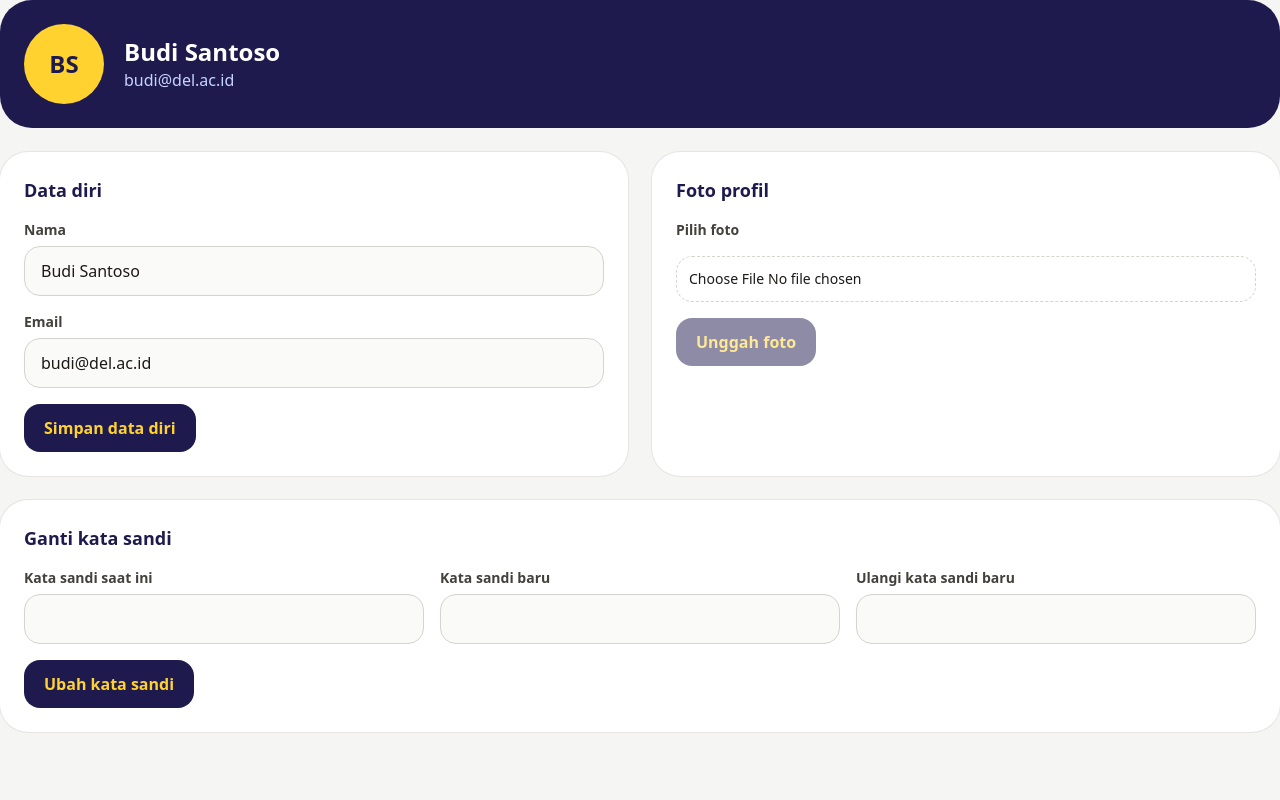
ProfilePage › validasi ganti kata sandi
This screenshot has width=1280, height=800.
In the password field labelled "Kata sandi baru": (640, 619) [440,594,840,644], type "123"
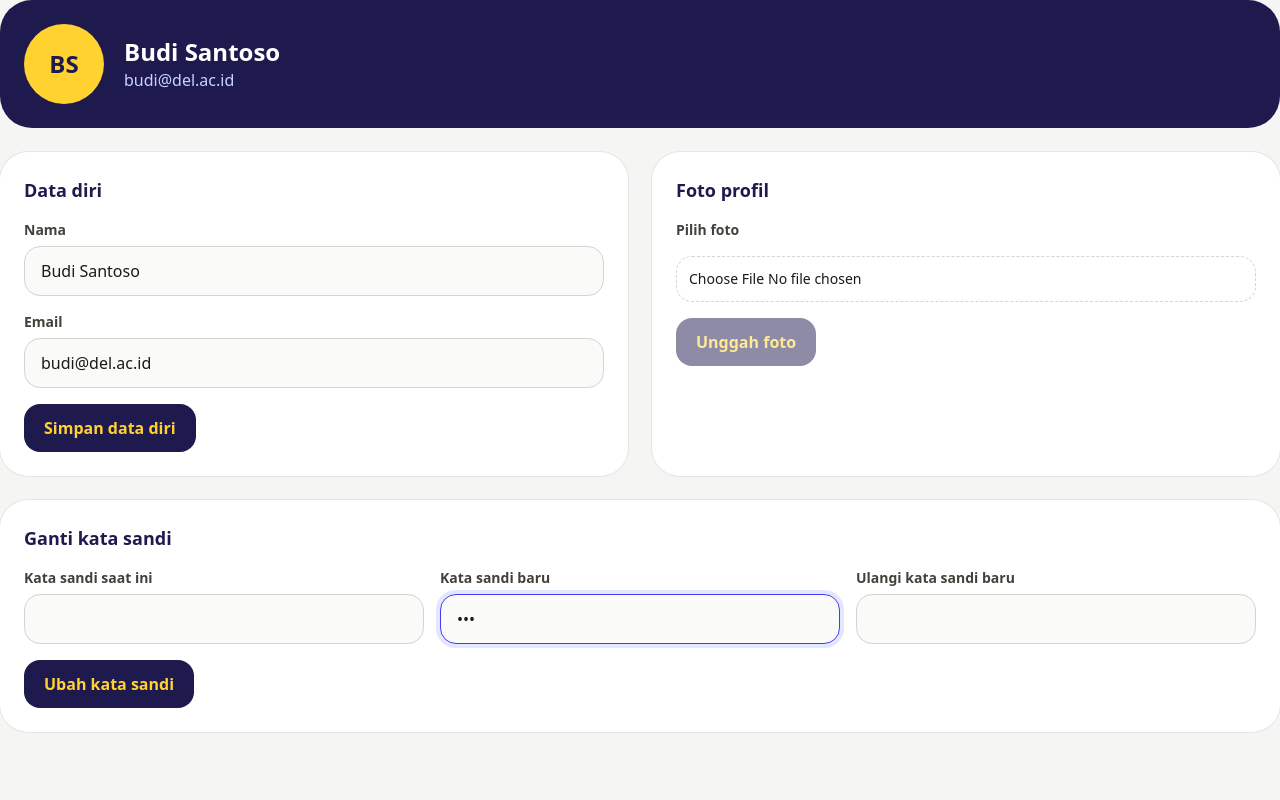
In the password field labelled "Ulangi kata sandi baru": (1056, 619) [856,594,1256,644], type "321"
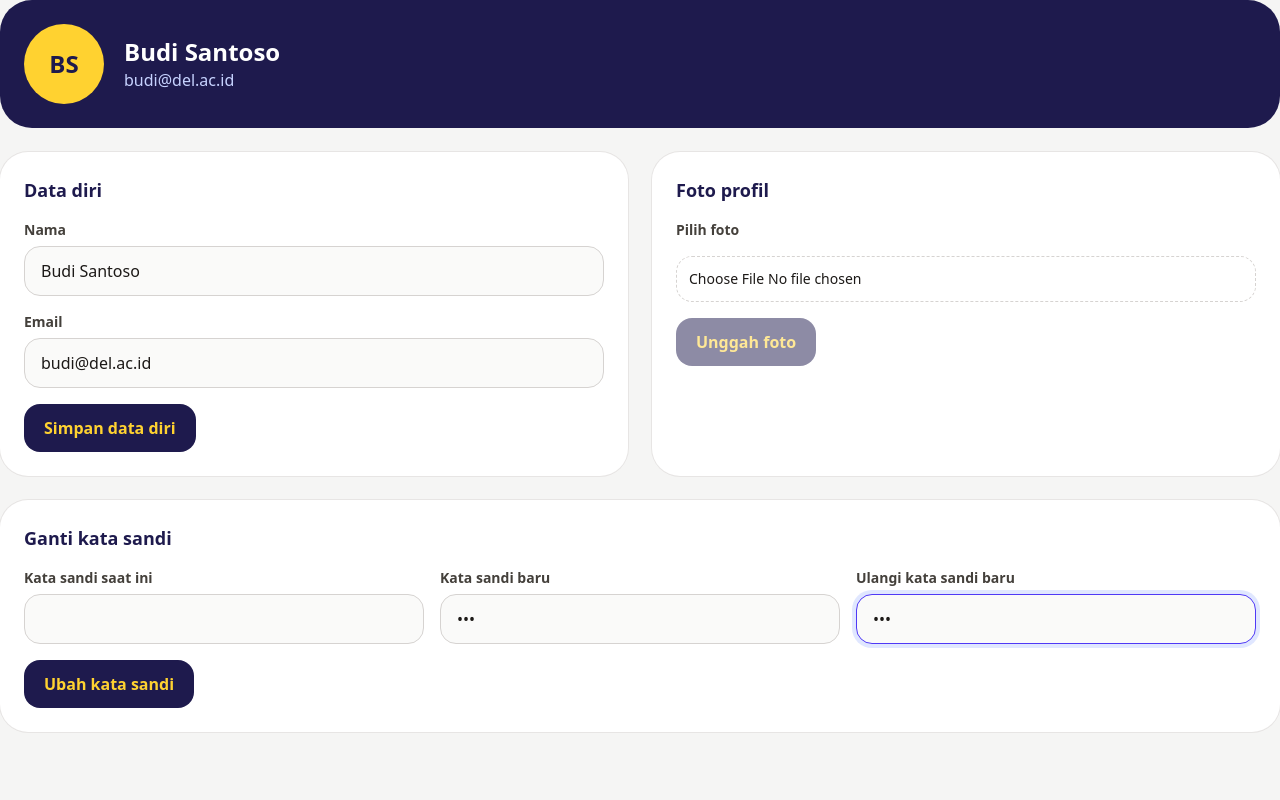
Click the button "Ubah kata sandi": (109, 684) [24,660,194,708]
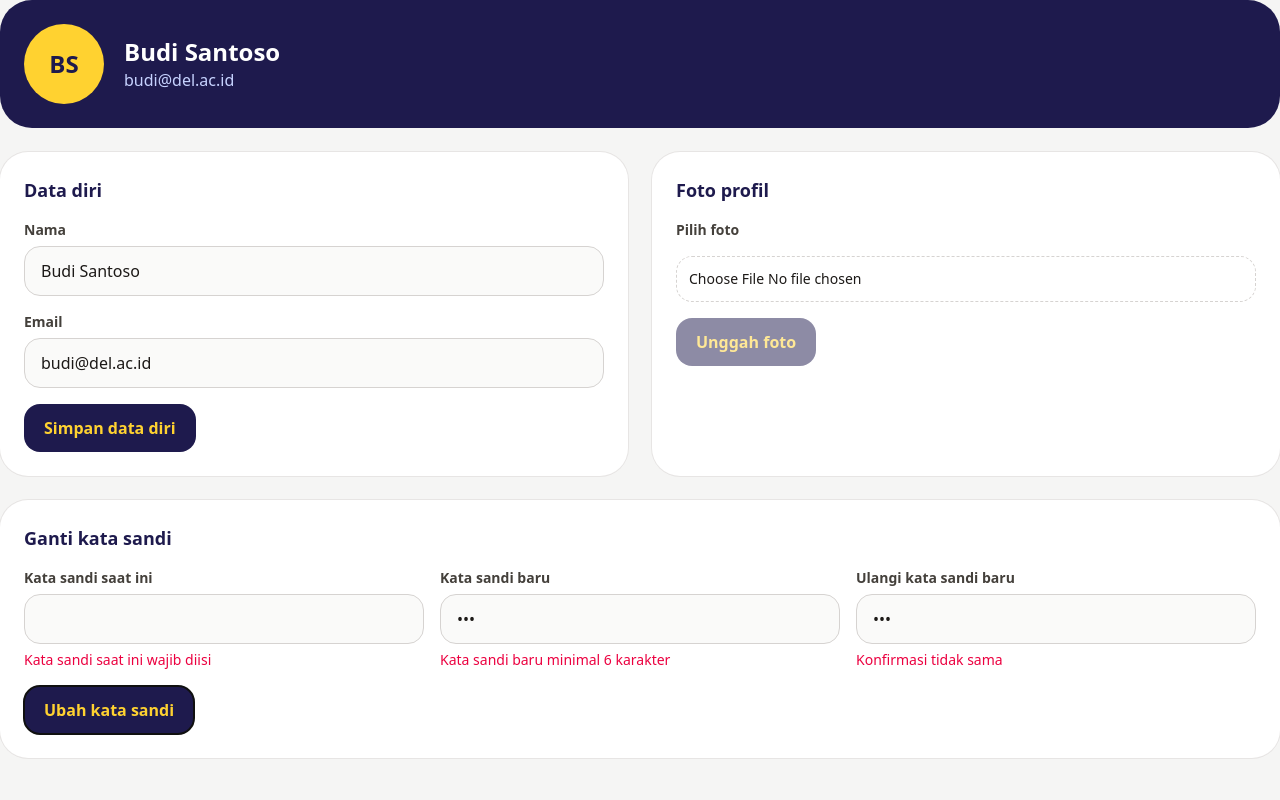
Expected: the text "Kata sandi saat ini wajib diisi" is shown, [24,650,211,669]
Expected: the text "Kata sandi baru minimal 6 karakter" is shown, [440,650,670,669]
Expected: the text "Konfirmasi tidak sama" is shown, [856,650,1003,669]
